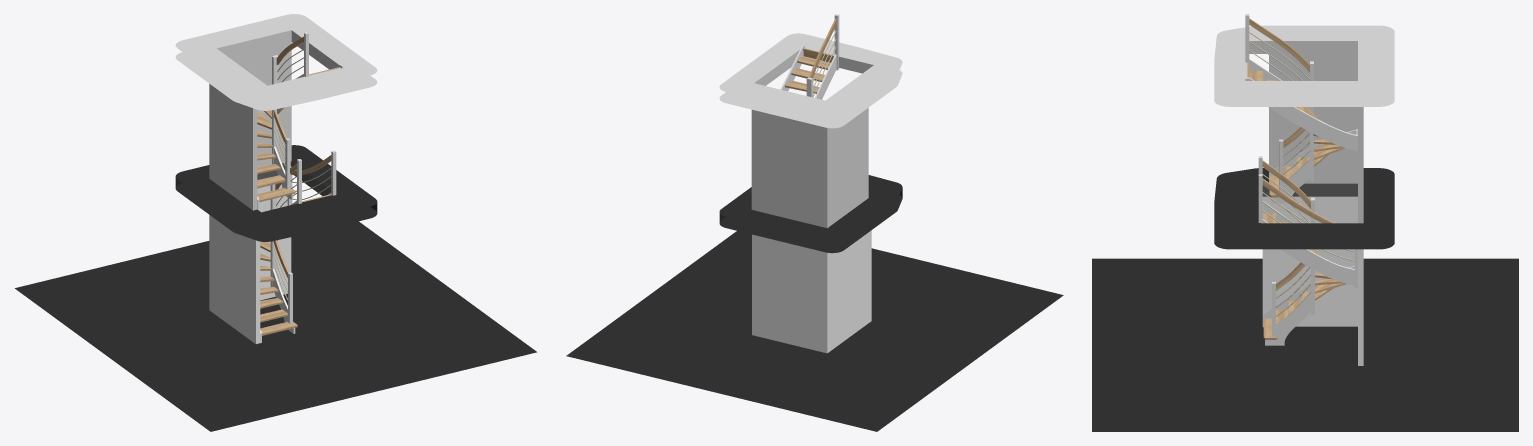
3 renders of one model, left to right at view 1: azimuth 30°, elevation 25°; view 2: azimuth 150°, elevation 25°; view 3: azimuth 270°, elevation 25°, orthographic. The views are drawn at different scales.
Parts seen in each view (by area): view 1: _x0023_OBJECT3D1111_1, _x0023_OBJECT3D0_x002C_90_x002C_90_x002C_91, _x0023_OBJECT3D1111, _x0023_BEGIN_WALL0_x002C_90_x002C_90_x002C_90_x002C_3, _x0023_BEGIN_WALL1111, _x0023_POST0_x002C_950_x002C_950_x002C_951, _x0023_TREADcon_ash.jpg1111_1, _x0023_BEGIN_OPENING0_x002C_90_x002C_90_x002C_91, _x0023_TREADcon_ash.jpg1111; view 2: _x0023_OBJECT3D1111_1, _x0023_BEGIN_WALL1111, _x0023_BEGIN_WALL0_x002C_90_x002C_90_x002C_90_x002C_3, _x0023_OBJECT3D0_x002C_90_x002C_90_x002C_91, _x0023_OBJECT3D1111, _x0023_BEGIN_OPENING0_x002C_90_x002C_90_x002C_91, _x0023_TREADcon_ash.jpg1111_1; view 3: _x0023_OBJECT3D1111_1, _x0023_OBJECT3D0_x002C_90_x002C_90_x002C_91, _x0023_OBJECT3D1111, _x0023_BEGIN_WALL1111, _x0023_BEGIN_WALL0_x002C_90_x002C_90_x002C_90_x002C_3, _x0023_STRING0_x002C_950_x002C_950_x002C_951_953, _x0023_POST0_x002C_950_x002C_950_x002C_951, _x0023_STRING0_x002C_950_x002C_950_x002C_952, _x0023_TREADcon_ash.jpg1111_1, _x0023_BEGIN_OPENING0_x002C_90_x002C_90_x002C_91, _x0023_BEGIN_OPENING1111, _x0023_STRING0_x002C_950_x002C_950_x002C_951_954 (+4 smaller).
Boxes of the visible parts, x1,y1,x2,y2 form: _x0023_OBJECT3D1111_1: (15, 177, 536, 431); _x0023_OBJECT3D0_x002C_90_x002C_90_x002C_91: (175, 14, 377, 110); _x0023_OBJECT3D1111: (175, 145, 377, 241); _x0023_BEGIN_WALL0_x002C_90_x002C_90_x002C_90_x002C_3: (209, 42, 291, 210); _x0023_BEGIN_WALL1111: (209, 184, 291, 343); _x0023_POST0_x002C_950_x002C_950_x002C_951: (270, 32, 336, 323); _x0023_TREADcon_ash.jpg1111_1: (257, 67, 340, 322); _x0023_BEGIN_OPENING0_x002C_90_x002C_90_x002C_91: (217, 30, 338, 69); _x0023_TREADcon_ash.jpg1111: (257, 130, 297, 335); _x0023_OBJECT3D1111_1: (566, 188, 1063, 431); _x0023_BEGIN_WALL1111: (752, 230, 871, 353); _x0023_BEGIN_WALL0_x002C_90_x002C_90_x002C_90_x002C_3: (751, 108, 868, 228); _x0023_OBJECT3D0_x002C_90_x002C_90_x002C_91: (719, 33, 902, 128); _x0023_OBJECT3D1111: (719, 175, 902, 253); _x0023_BEGIN_OPENING0_x002C_90_x002C_90_x002C_91: (754, 50, 873, 85); _x0023_TREADcon_ash.jpg1111_1: (785, 48, 834, 93); _x0023_OBJECT3D1111_1: (1092, 258, 1518, 431); _x0023_OBJECT3D0_x002C_90_x002C_90_x002C_91: (1214, 25, 1394, 106); _x0023_OBJECT3D1111: (1214, 168, 1394, 249); _x0023_BEGIN_WALL1111: (1262, 196, 1363, 365); _x0023_BEGIN_WALL0_x002C_90_x002C_90_x002C_90_x002C_3: (1269, 54, 1363, 223); _x0023_STRING0_x002C_950_x002C_950_x002C_951_953: (1245, 77, 1357, 345); _x0023_POST0_x002C_950_x002C_950_x002C_951: (1245, 14, 1357, 337); _x0023_STRING0_x002C_950_x002C_950_x002C_952: (1262, 201, 1354, 327); _x0023_TREADcon_ash.jpg1111_1: (1247, 62, 1355, 324); _x0023_BEGIN_OPENING0_x002C_90_x002C_90_x002C_91: (1249, 41, 1357, 53); _x0023_BEGIN_OPENING1111: (1262, 183, 1357, 196); _x0023_STRING0_x002C_950_x002C_950_x002C_951_954: (1249, 59, 1309, 203).
Size of the model in its own units: 7.93 by 7.09 by 8.25.
Materials: 8 (1 with a texture image).
